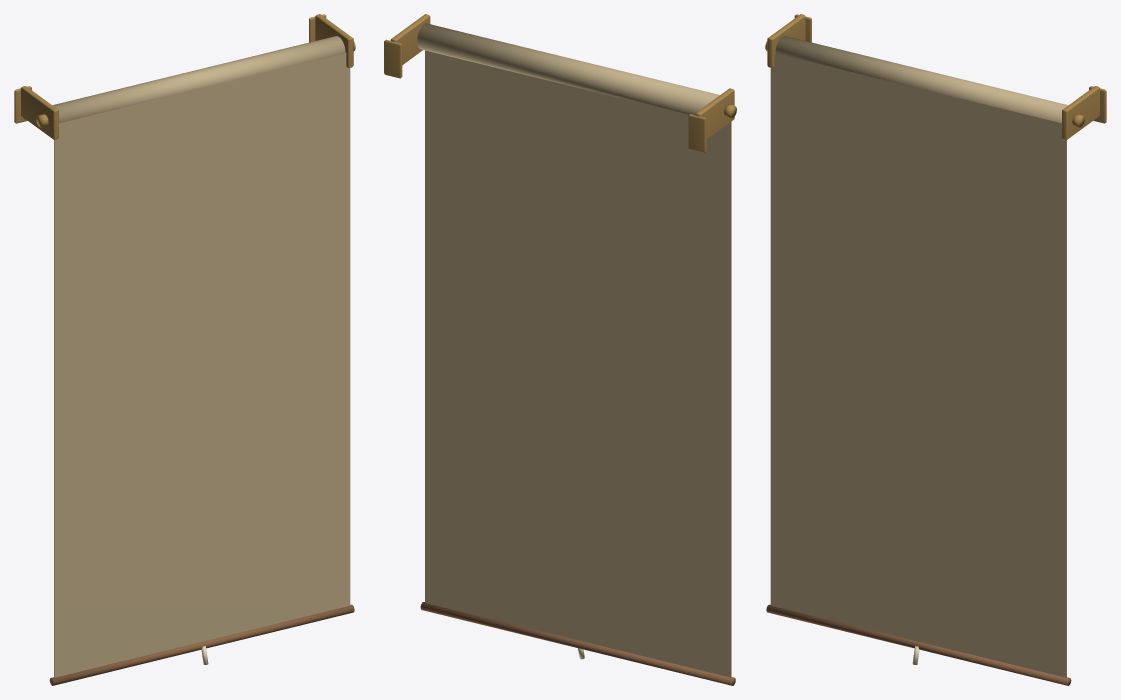
Rendered from rpg-mansion-narrow-roller-screen-01.glb.
3 views of the same model, side by side, from view 1: azimuth 30°, elevation 25°; view 2: azimuth 150°, elevation 25°; view 3: azimuth 330°, elevation 25° (orthographic). The views are drawn at different scales.
Parts seen in each view (by area): view 1: rpg-mansion-narrow-roller-screen-01; view 2: rpg-mansion-narrow-roller-screen-01; view 3: rpg-mansion-narrow-roller-screen-01.
Boxes of the visible parts, x1,y1,x2,y2 form: rpg-mansion-narrow-roller-screen-01: (14, 14, 355, 685); rpg-mansion-narrow-roller-screen-01: (384, 14, 736, 685); rpg-mansion-narrow-roller-screen-01: (765, 14, 1106, 685).
Bounding box in the file's own units: 0.7 × 1.26 × 0.1468.
